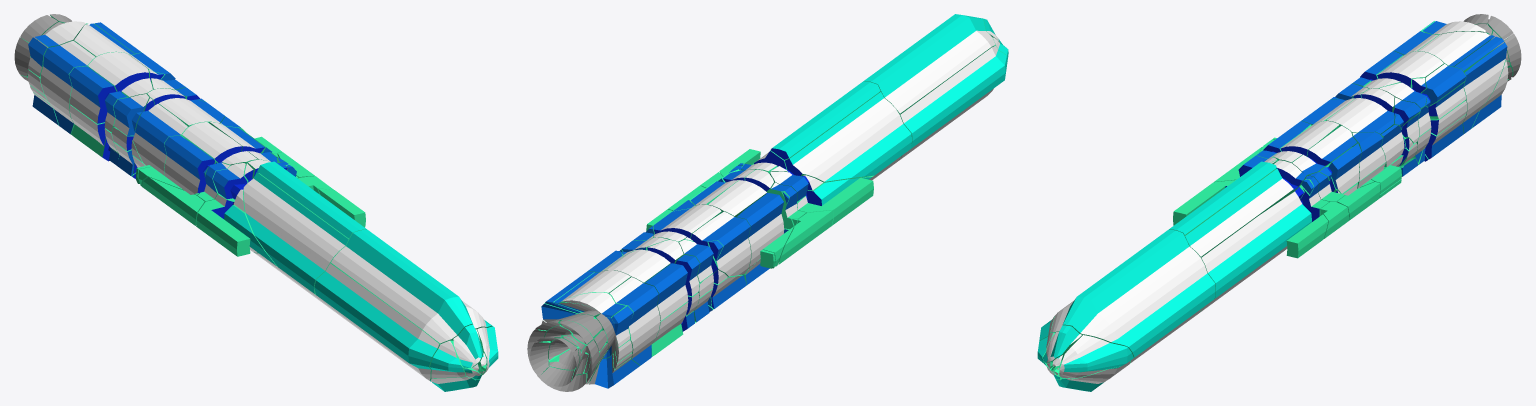
File: Rocket6Broken.fbx
The picture shows the model from 3 angles, left to right: view 1: azimuth 30°, elevation 25°; view 2: azimuth 150°, elevation 25°; view 3: azimuth 330°, elevation 25°; orthographic projection.
Visible parts, largest first — view 1: Cylinder.003_cell.067, Cylinder.003_cell.049, Cylinder.003_cell.050, Cylinder.003_cell.038, Cylinder.003_cell.086, Cylinder.003_cell.103, Cylinder.003_cell.007, Cylinder.003_cell.096, Cylinder.003_cell.001, Cylinder.003_cell.083, Cylinder.003_cell.008, Cylinder.003_cell.012 (+18 smaller); view 2: Cylinder.003_cell.049, Cylinder.003_cell.067, Cylinder.003_cell.050, Cylinder.003_cell.086, Cylinder.003_cell.103, Cylinder.003_cell.007, Cylinder.003_cell.038, Cylinder.003_cell.096, Cylinder.003_cell.001, Cylinder.003_cell.083, Cylinder.003_cell.008, Cylinder.003_cell.012 (+20 smaller); view 3: Cylinder.003_cell.067, Cylinder.003_cell.115, Cylinder.003_cell.039, Cylinder.003_cell.078, Cylinder.003_cell.012, Cylinder.003_cell.018, Cylinder.003_cell.007, Cylinder.003_cell.083, Cylinder.003_cell.010, Cylinder.003_cell.063, Cylinder.003_cell.008, Cylinder.003_cell.036 (+25 smaller).
Boxes of the visible parts, x1,y1,x2,y2 form: Cylinder.003_cell.067: (331,229,492,344); Cylinder.003_cell.049: (243,163,349,293); Cylinder.003_cell.050: (314,263,439,381); Cylinder.003_cell.038: (196,194,277,266); Cylinder.003_cell.086: (40,40,95,134); Cylinder.003_cell.103: (132,98,188,175); Cylinder.003_cell.007: (257,161,366,238); Cylinder.003_cell.096: (69,66,127,132); Cylinder.003_cell.001: (164,135,215,194); Cylinder.003_cell.083: (88,52,152,97); Cylinder.003_cell.008: (182,122,257,165); Cylinder.003_cell.012: (147,88,225,126); Cylinder.003_cell.049: (770,92,911,182); Cylinder.003_cell.067: (864,14,995,114); Cylinder.003_cell.050: (897,45,1007,161); Cylinder.003_cell.086: (596,277,660,365); Cylinder.003_cell.103: (684,211,751,276); Cylinder.003_cell.007: (771,81,880,159); Cylinder.003_cell.038: (797,177,873,225); Cylinder.003_cell.096: (645,255,699,320); Cylinder.003_cell.001: (737,193,784,269); Cylinder.003_cell.083: (604,240,683,283); Cylinder.003_cell.008: (708,169,773,217); Cylinder.003_cell.012: (653,204,721,242); Cylinder.003_cell.067: (1050,229,1215,363); Cylinder.003_cell.115: (1201,187,1311,298); Cylinder.003_cell.039: (1184,160,1306,257); Cylinder.003_cell.078: (1059,335,1133,378); Cylinder.003_cell.012: (1326,88,1394,134); Cylinder.003_cell.018: (1459,42,1507,133); Cylinder.003_cell.007: (1169,161,1276,235); Cylinder.003_cell.083: (1364,51,1443,88); Cylinder.003_cell.010: (1417,31,1494,66); Cylinder.003_cell.063: (1292,125,1356,176); Cylinder.003_cell.008: (1273,121,1339,162); Cylinder.003_cell.036: (1319,143,1361,193).
Size of the model in its own units: 0.3357 by 0.235 by 2.02.
